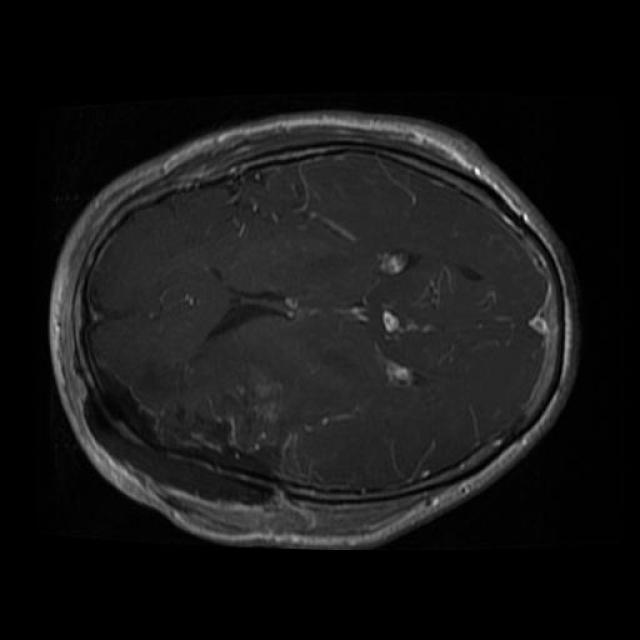Glioma: (84, 371, 286, 533)
